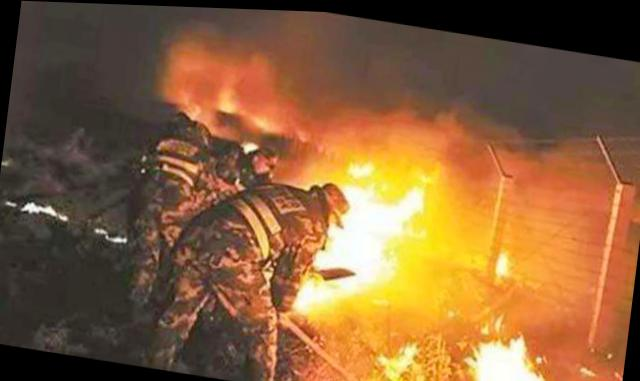fire: (274, 132, 432, 323), (375, 301, 567, 380)
